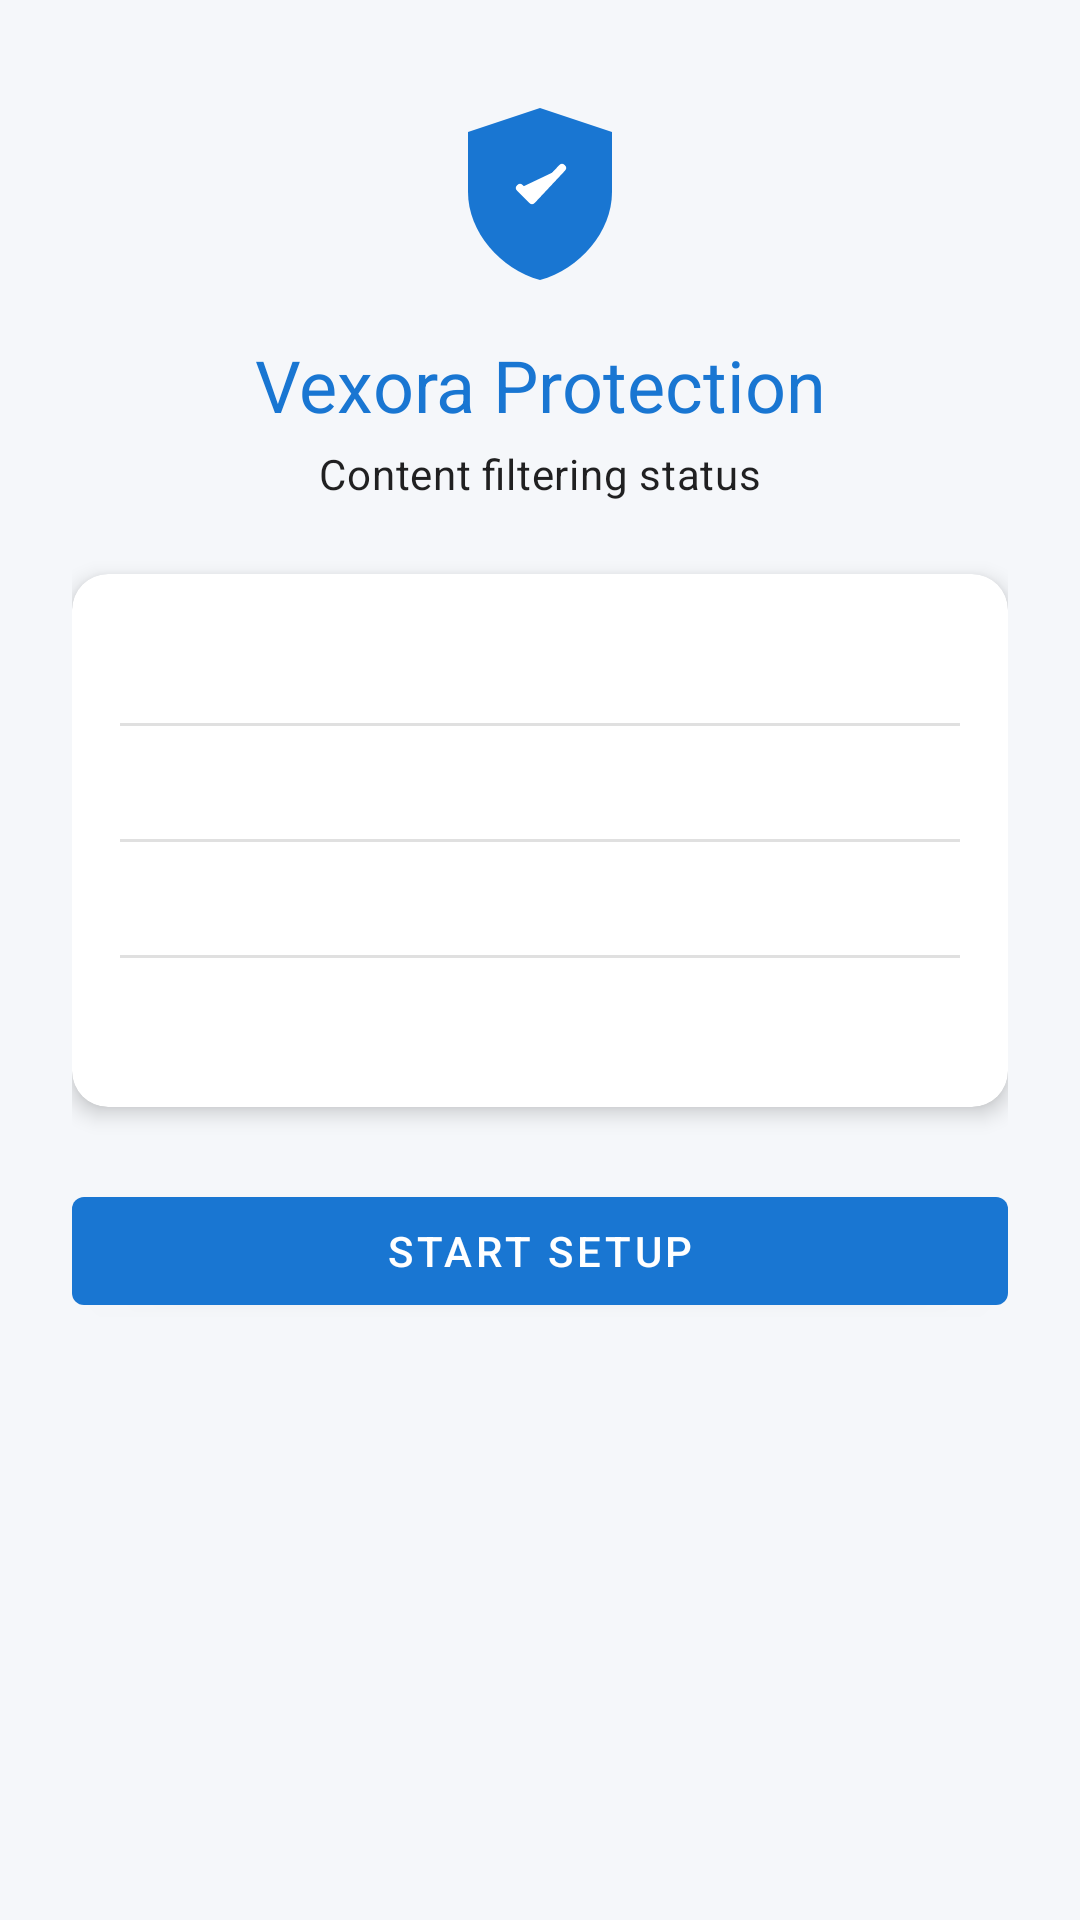

Where to tap for icons on this 1080 x 1920 app screen, as [x,y]:
shield: [540,194]
